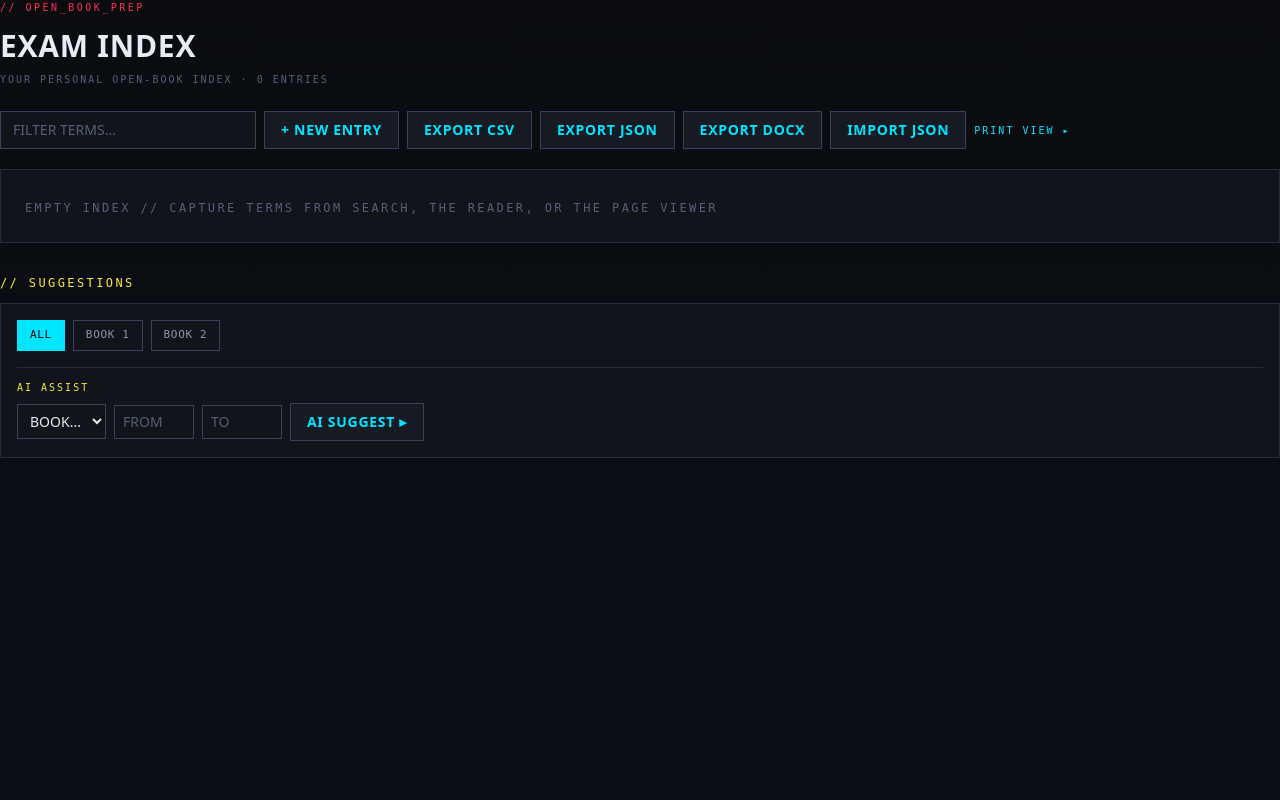
Test: new entry button opens the blank capture dialog
Click the button "+ NEW ENTRY": (332, 130) [264,111,399,149]
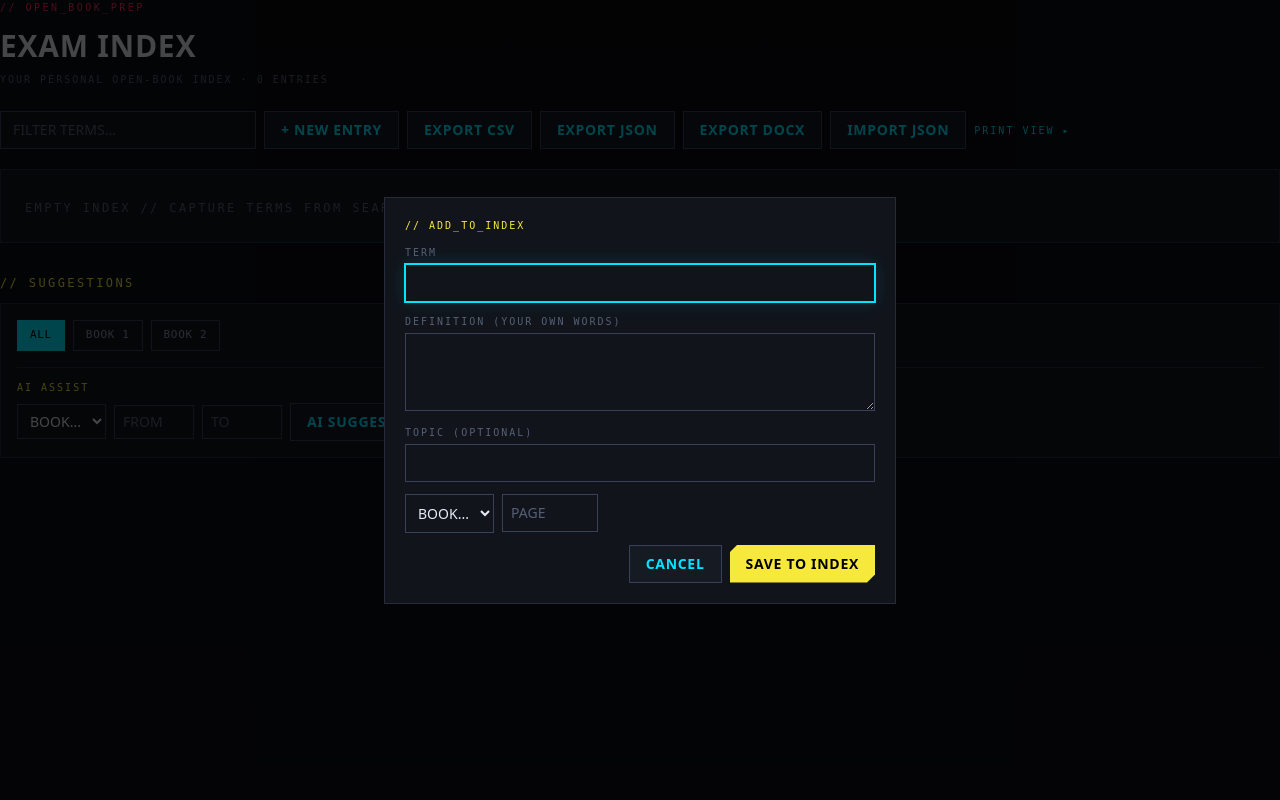
Now the dialog named "add to index" is shown
